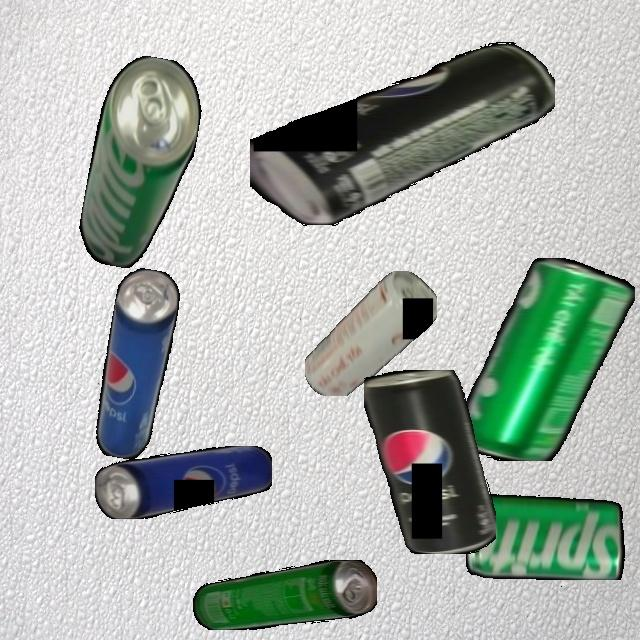debris: (249, 42, 555, 226), (458, 257, 635, 461), (74, 50, 209, 276), (363, 370, 496, 554), (89, 265, 184, 463), (465, 466, 625, 580), (304, 270, 437, 396), (95, 445, 272, 519), (192, 560, 377, 630)
